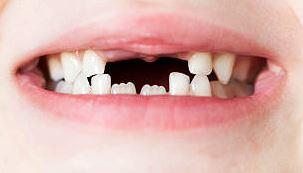Hypodontia: (99, 55, 150, 73), (149, 52, 190, 71)
